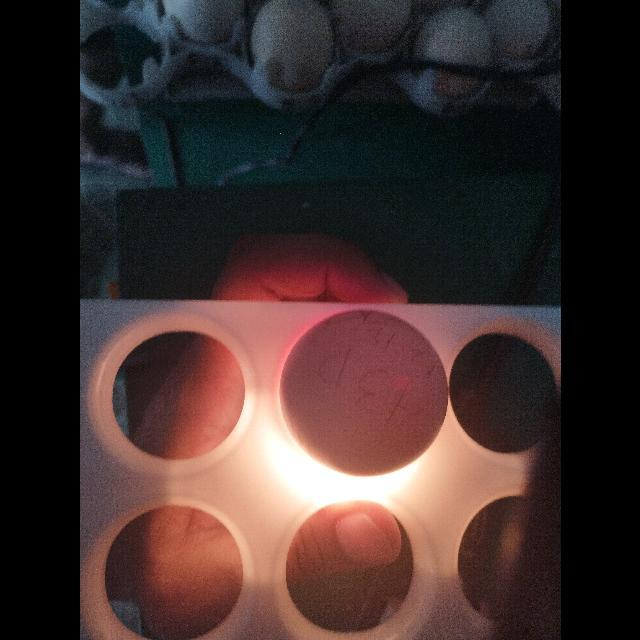B - Fair: (276, 308, 450, 480)
